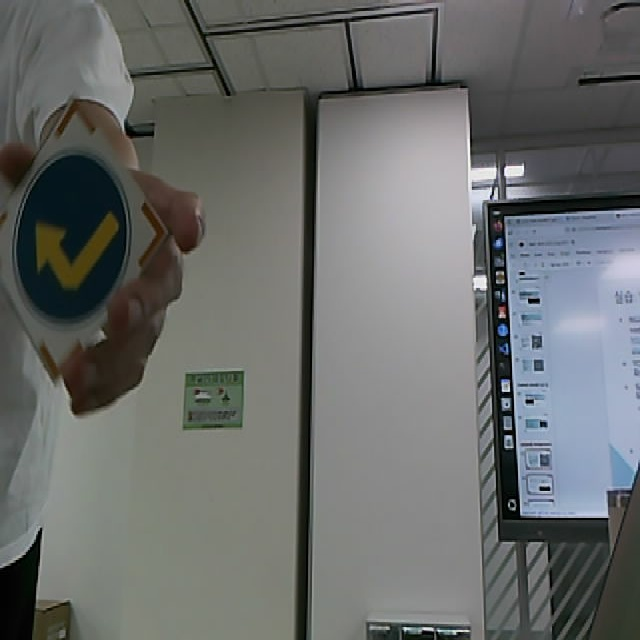right: (1, 95, 168, 384)
